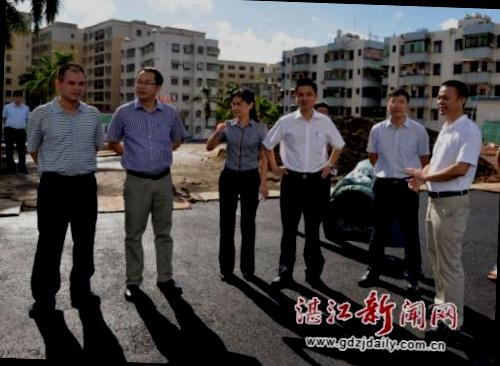no_helmet: (434, 76, 473, 121), (52, 59, 91, 103), (134, 63, 165, 105), (290, 76, 322, 114), (384, 83, 412, 124), (229, 84, 258, 121), (10, 88, 27, 108)
